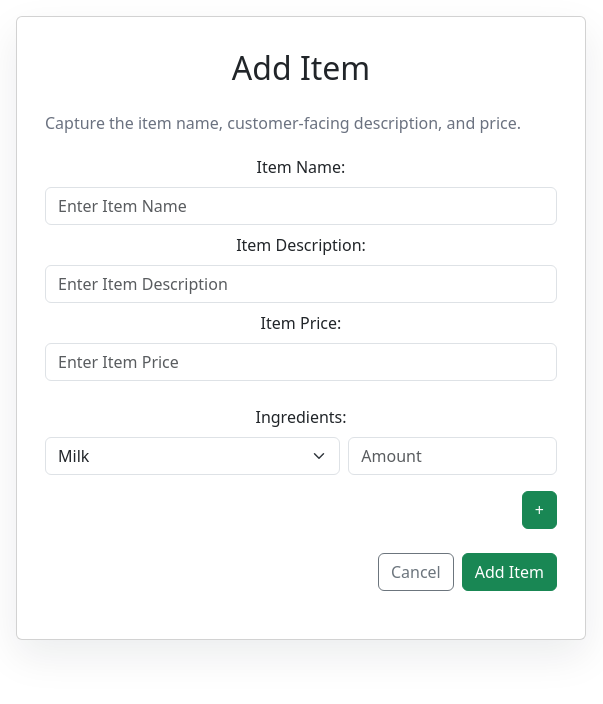
ItemComponent › shows ingredient validation when a staff user enters a negative amount
Type "Mocha" into the field with placeholder "Enter Item Name" at (301,206), box x1=45 y1=187 x2=557 y2=225
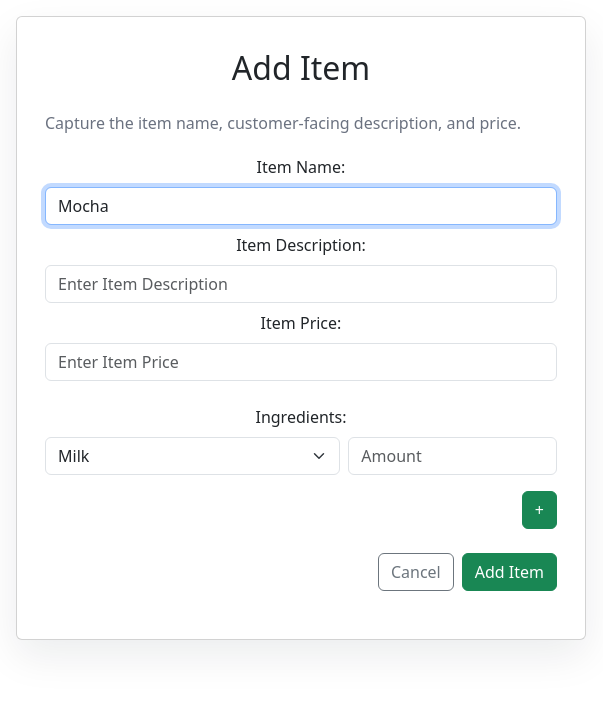
Type "Chocolate espresso drink" into the field with placeholder "Enter Item Description" at (301,284), box x1=45 y1=265 x2=557 y2=303
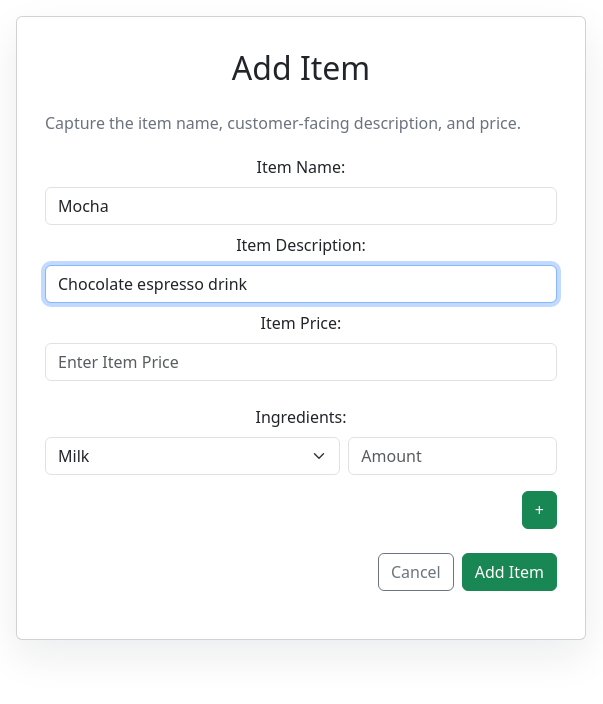
Type "5.25" into the number field with placeholder "Enter Item Price" at (301,362), box x1=45 y1=343 x2=557 y2=381
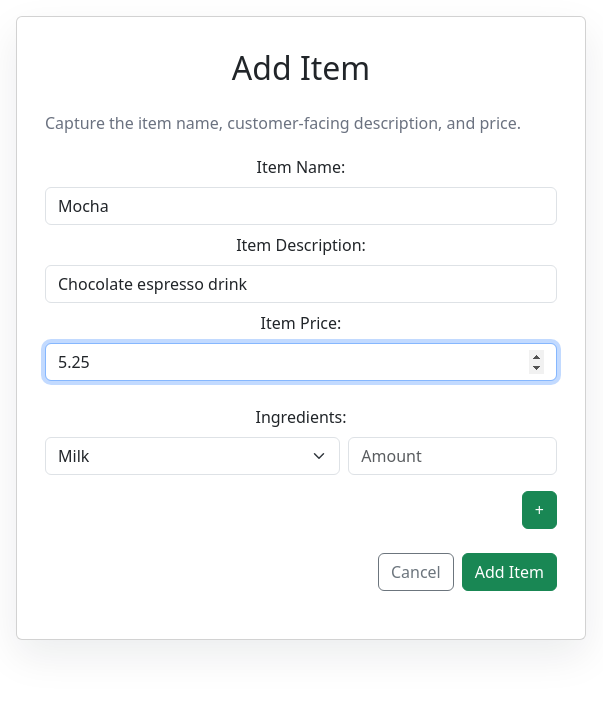
Type "-1" into the number field with placeholder "Amount" at (453,456), box x1=348 y1=437 x2=557 y2=475
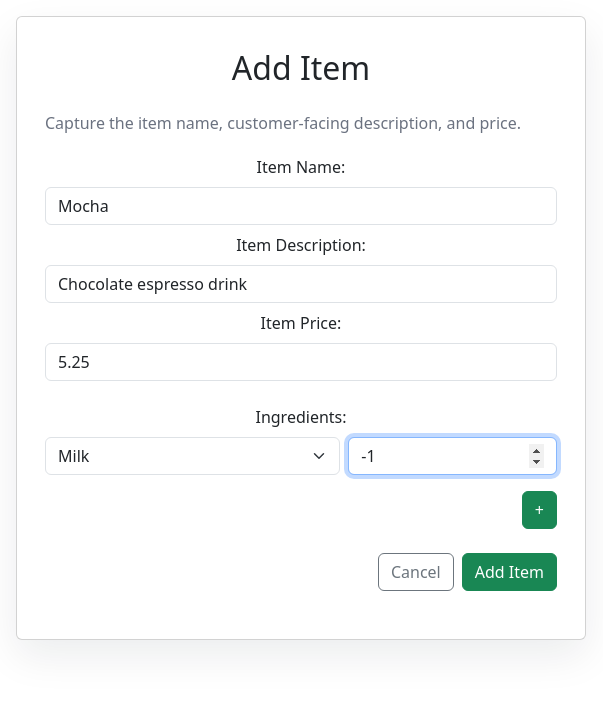
Click the button "Add Item" at (509,572), box x1=462 y1=553 x2=557 y2=591
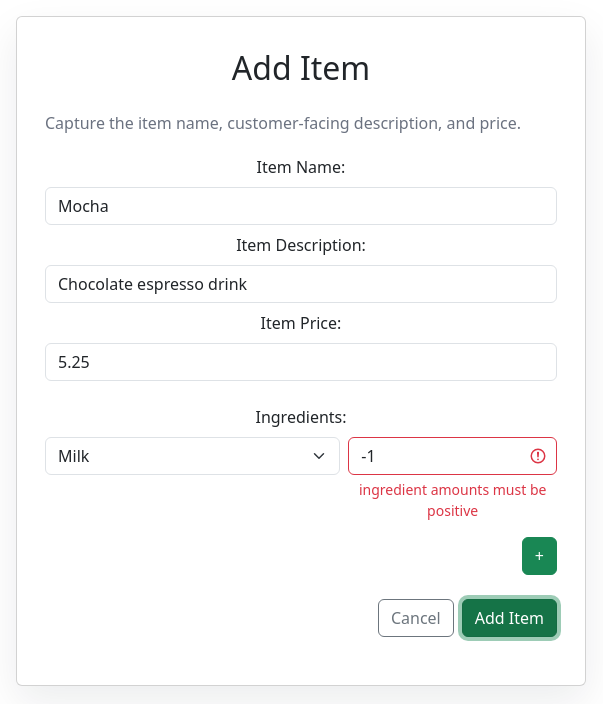
Now the text "ingredient amounts must be positive" is shown, box x1=348 y1=479 x2=557 y2=521
